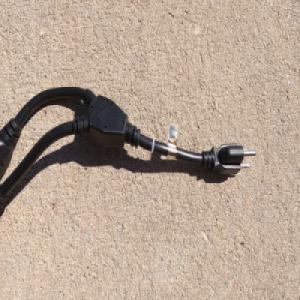Wire: (0, 85, 258, 221)
